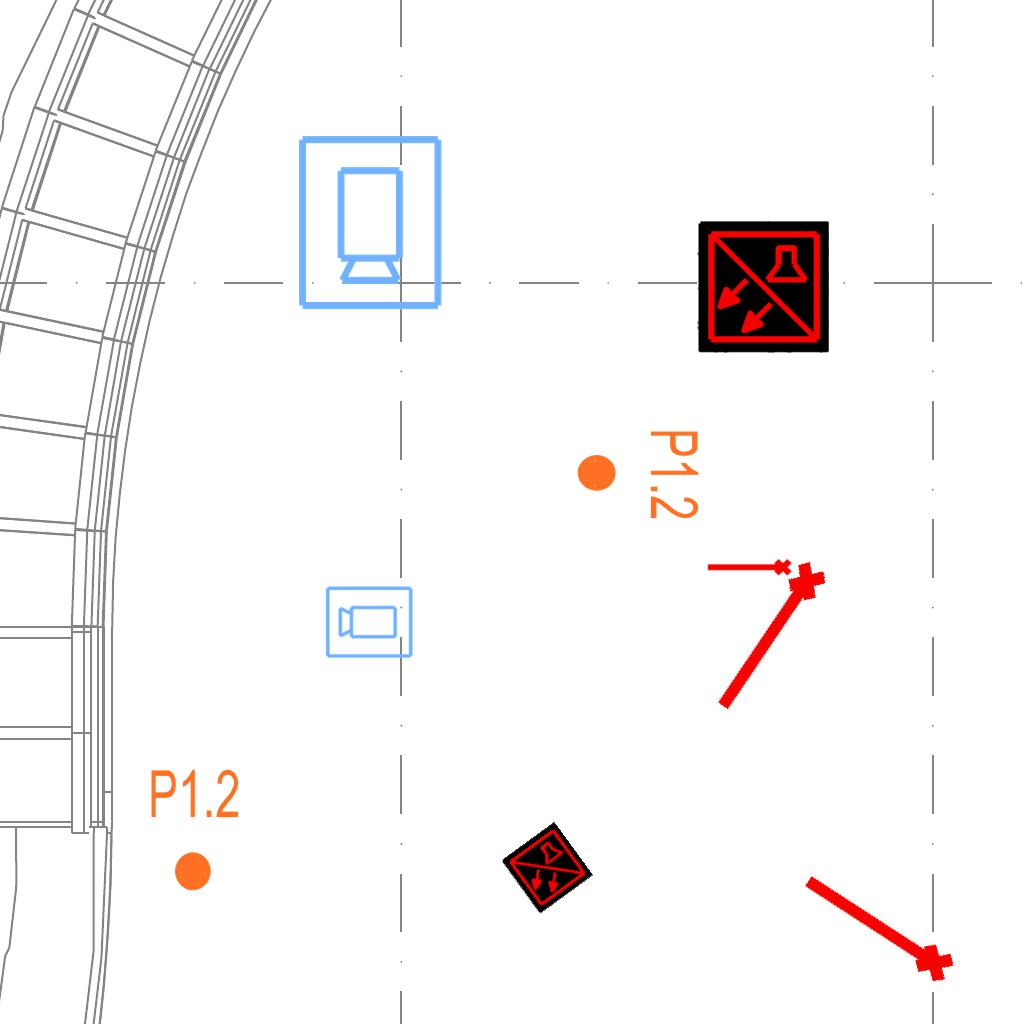ASR_Ansaugoeffnung: (702, 553, 840, 725), (789, 860, 963, 996), (705, 557, 793, 580)
Downlight_LED_Einbauleuchten_Flur: (148, 766, 241, 894), (574, 428, 702, 521)
KFO_Kamera_mit_Festobjektiv: (292, 131, 446, 313), (324, 583, 415, 660)
OKW_Multisensormelder_(Kombination_optischer_Rauch-Kahlenmonoxid_Waerme-Melder): (697, 221, 829, 353), (500, 821, 594, 915)
